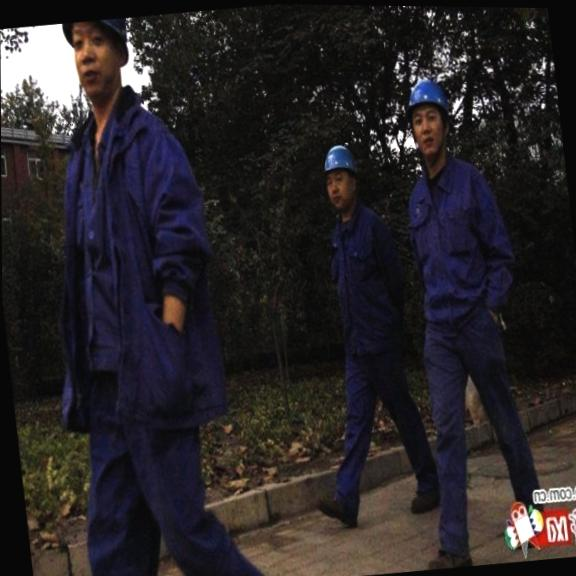no_safety_vest: (25, 82, 237, 441), (395, 146, 523, 321), (319, 201, 415, 346)
